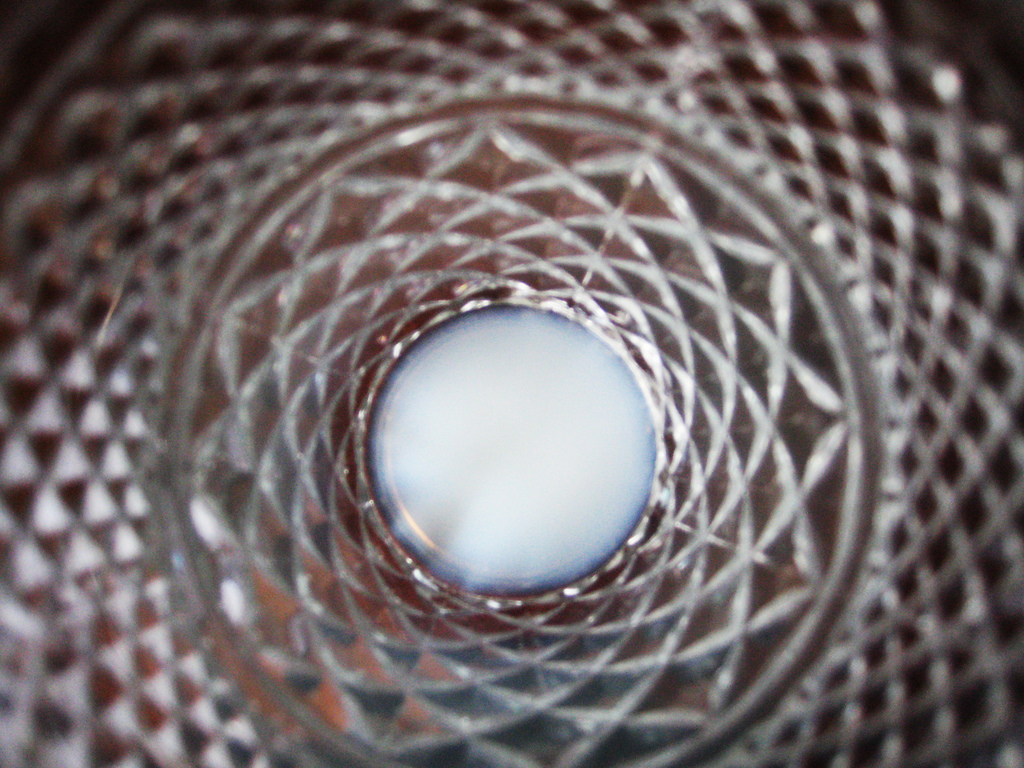glass of milk: (260, 217, 791, 658)
